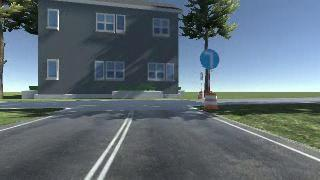turn_left: (200, 49, 219, 69)
